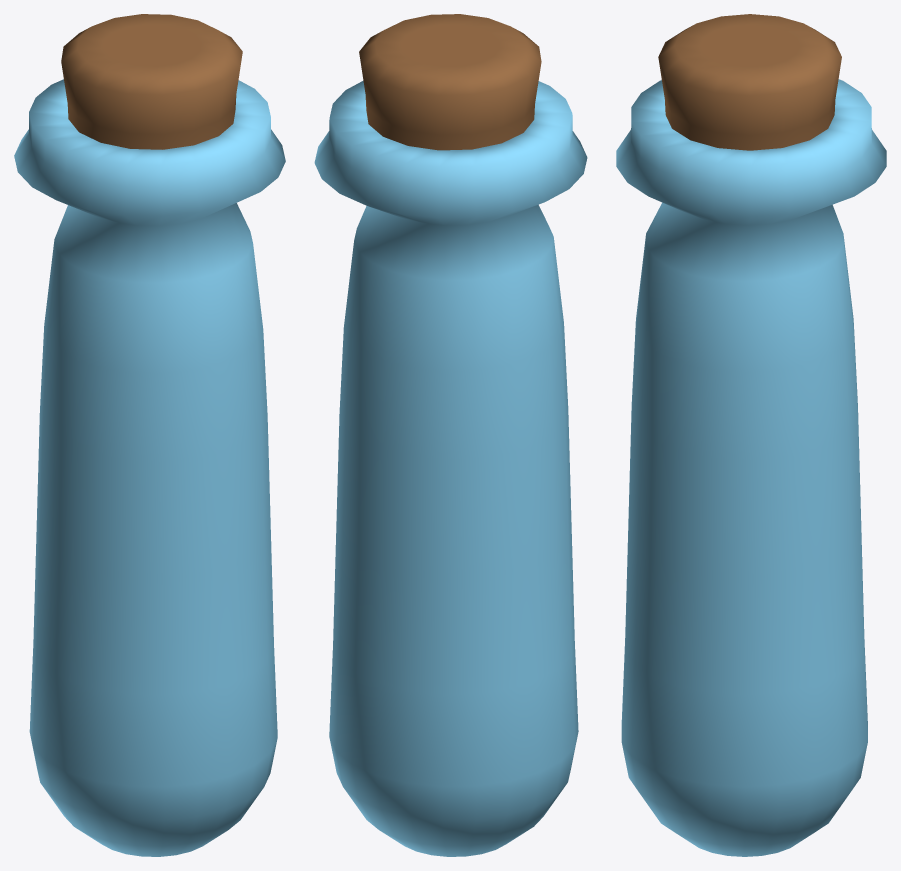
Rendered from FlaskThin.fbx.
3 renders of one model, left to right at view 1: azimuth 30°, elevation 25°; view 2: azimuth 150°, elevation 25°; view 3: azimuth 270°, elevation 25°, orthographic.
Visible parts, largest first — view 1: FlaskThin; view 2: FlaskThin; view 3: FlaskThin.
Part boxes in pixels (x1=…): FlaskThin: x1=14, y1=14, x2=285, y2=856; FlaskThin: x1=314, y1=14, x2=587, y2=856; FlaskThin: x1=616, y1=14, x2=886, y2=856.
Size of the model in its own units: 14.55 by 47.03 by 14.4.
